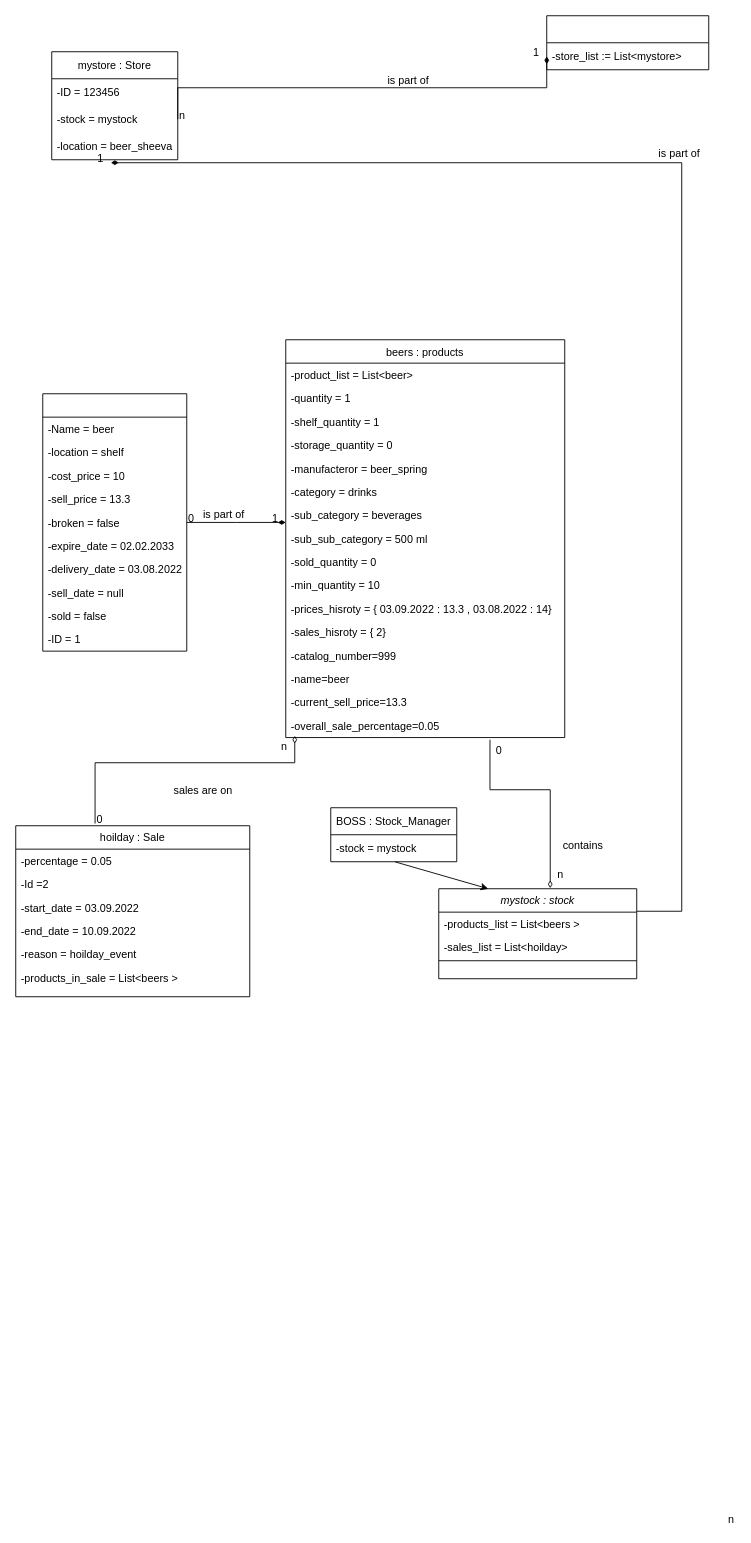
Image size: 751x1543. Some labels were removed from this diagram. Here are the shapes that lost their labels. From the top down, the box of each, then its label:
(546, 15, 709, 70): mystores : Stores
(42, 393, 187, 651): beer : product
